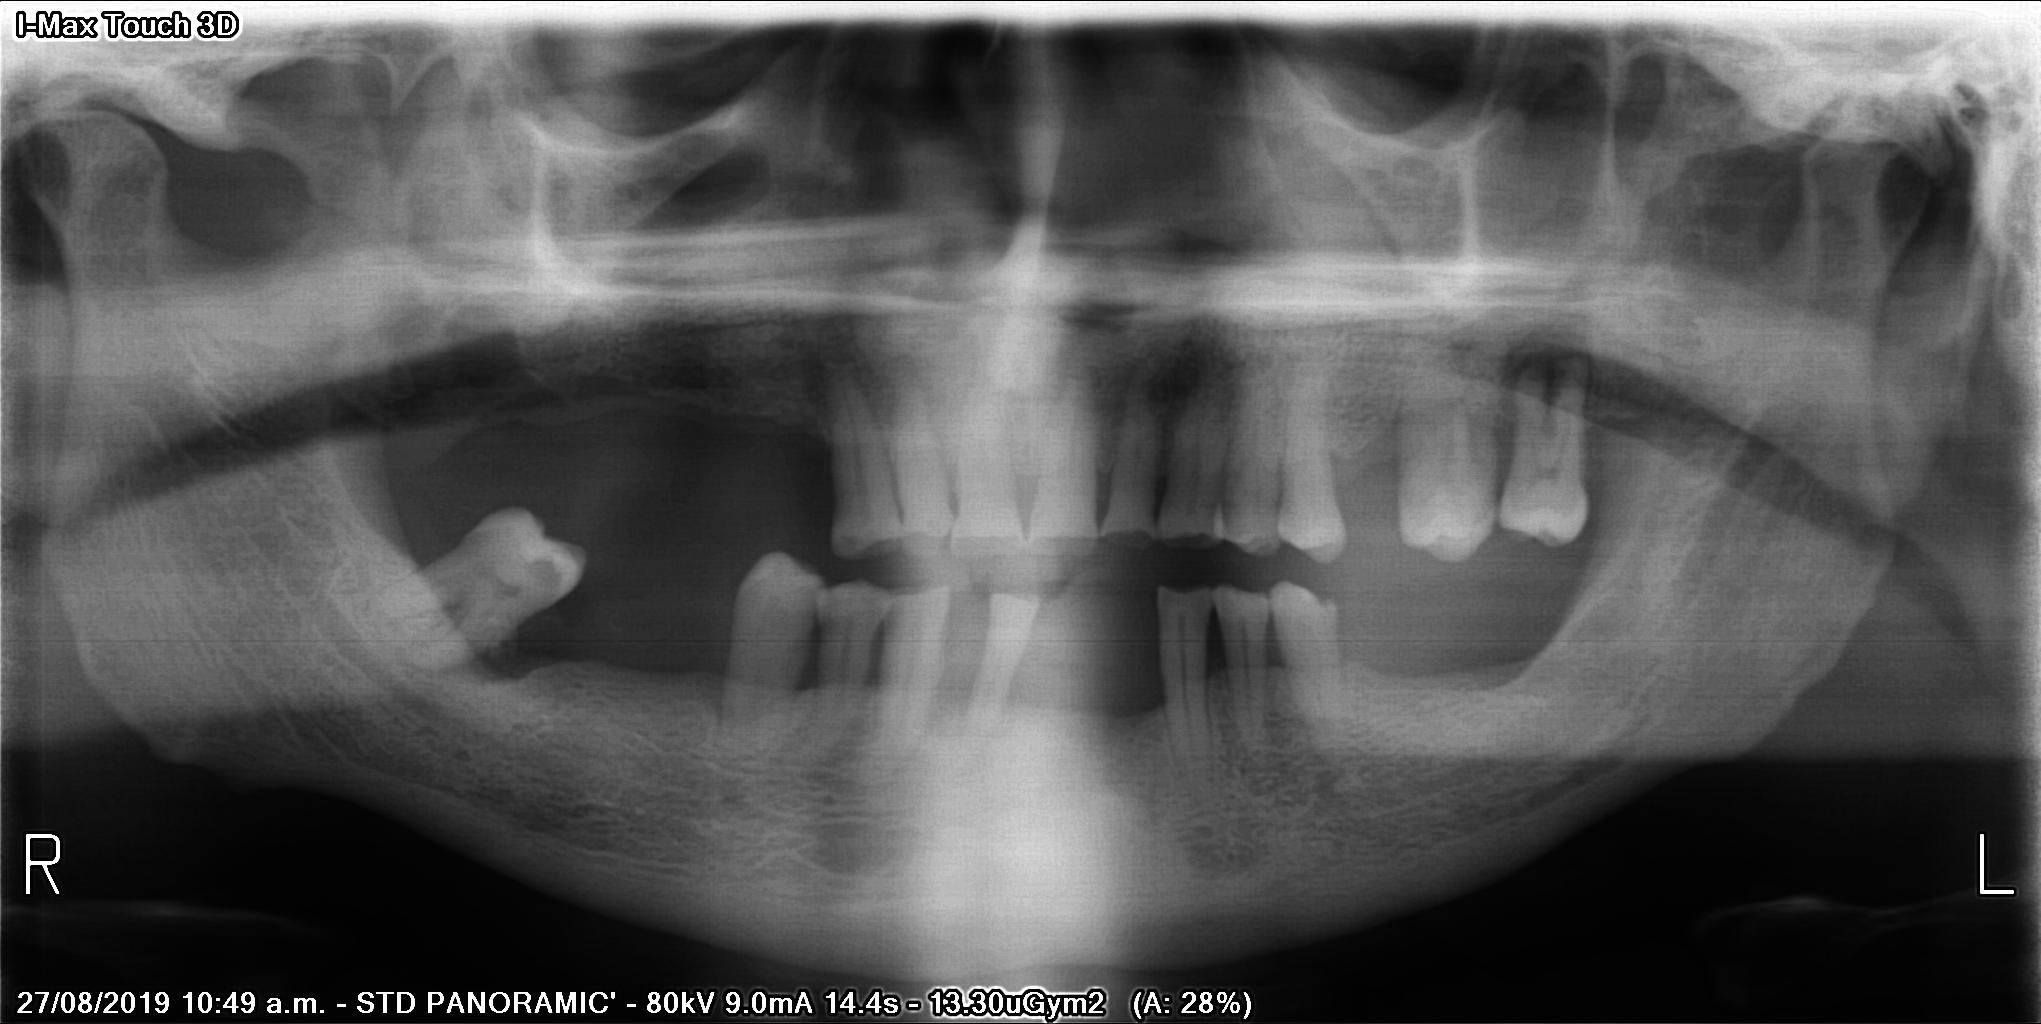Çürük Bölgesi: (518, 554, 580, 594), (825, 526, 871, 566)
